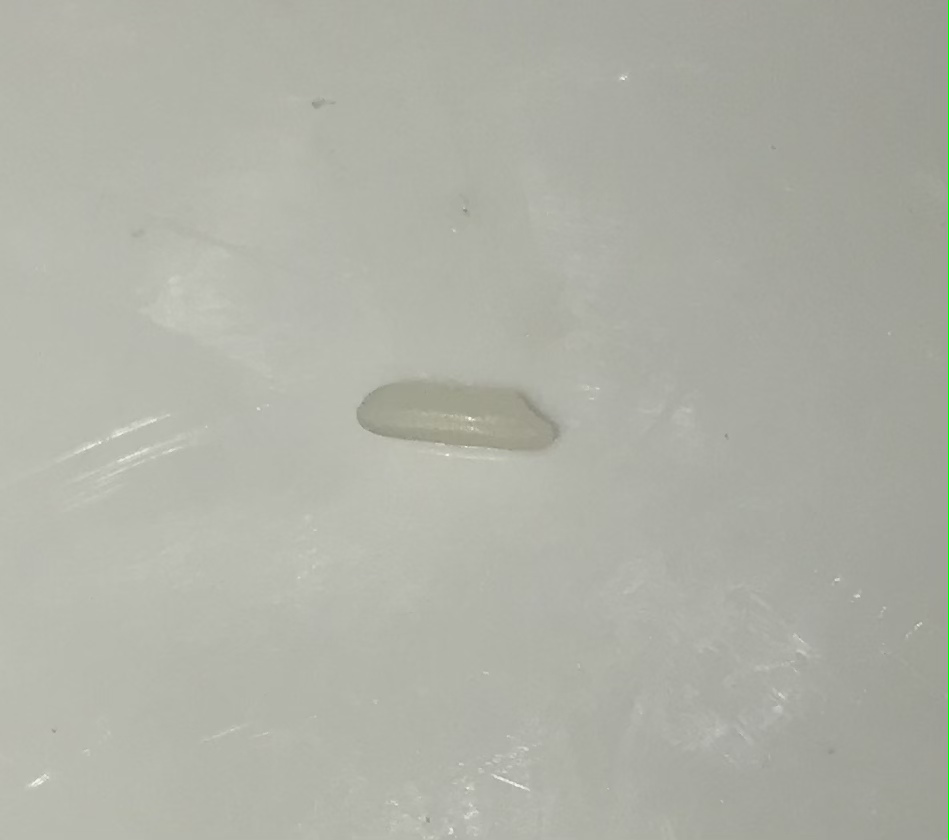Gao Lai Sua: (354, 360, 569, 474)
